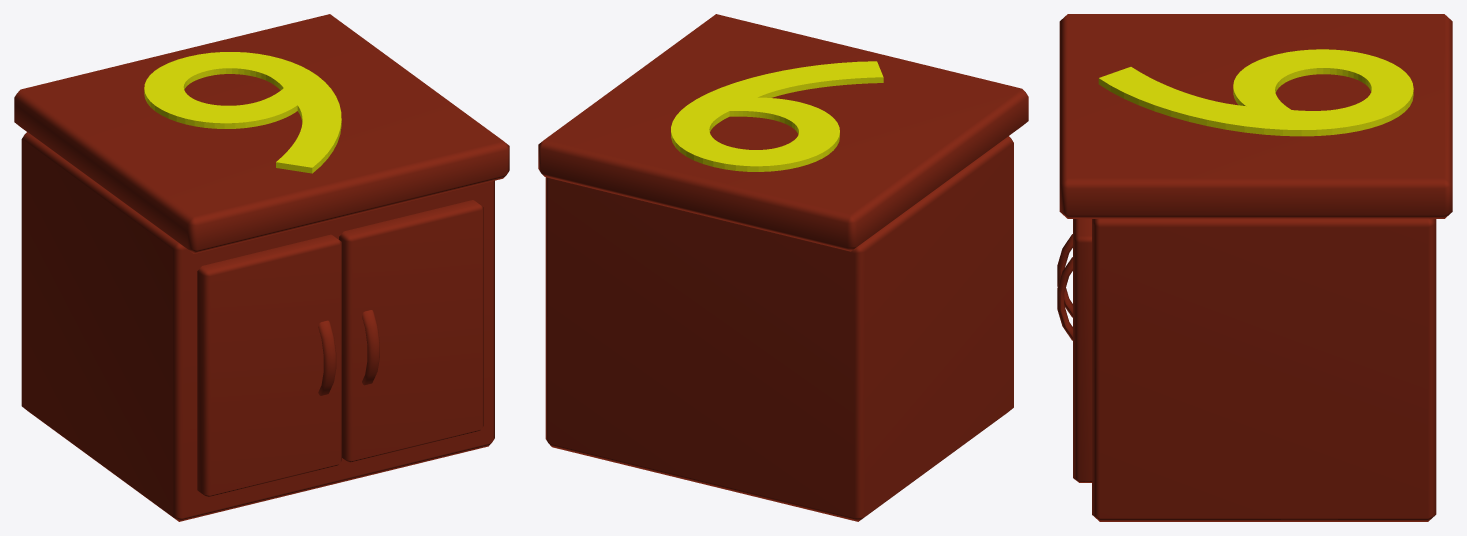
The picture shows the model from 3 angles, left to right: view 1: azimuth 30°, elevation 25°; view 2: azimuth 150°, elevation 25°; view 3: azimuth 270°, elevation 25°; orthographic projection. The views are drawn at different scales.
Parts seen in each view (by area): view 1: Cube.003, Text.008; view 2: Cube.003, Text.008; view 3: Cube.003, Text.008.
Boxes of the visible parts, left/top/right/bottom form: Cube.003: left=14, top=14, right=509, bottom=521; Text.008: left=144, top=52, right=341, bottom=173; Cube.003: left=538, top=14, right=1028, bottom=521; Text.008: left=671, top=61, right=883, bottom=171; Cube.003: left=1057, top=14, right=1452, bottom=521; Text.008: left=1098, top=49, right=1413, bottom=136.
Size of the model in its own units: 89.87 by 85.86 by 87.83.
